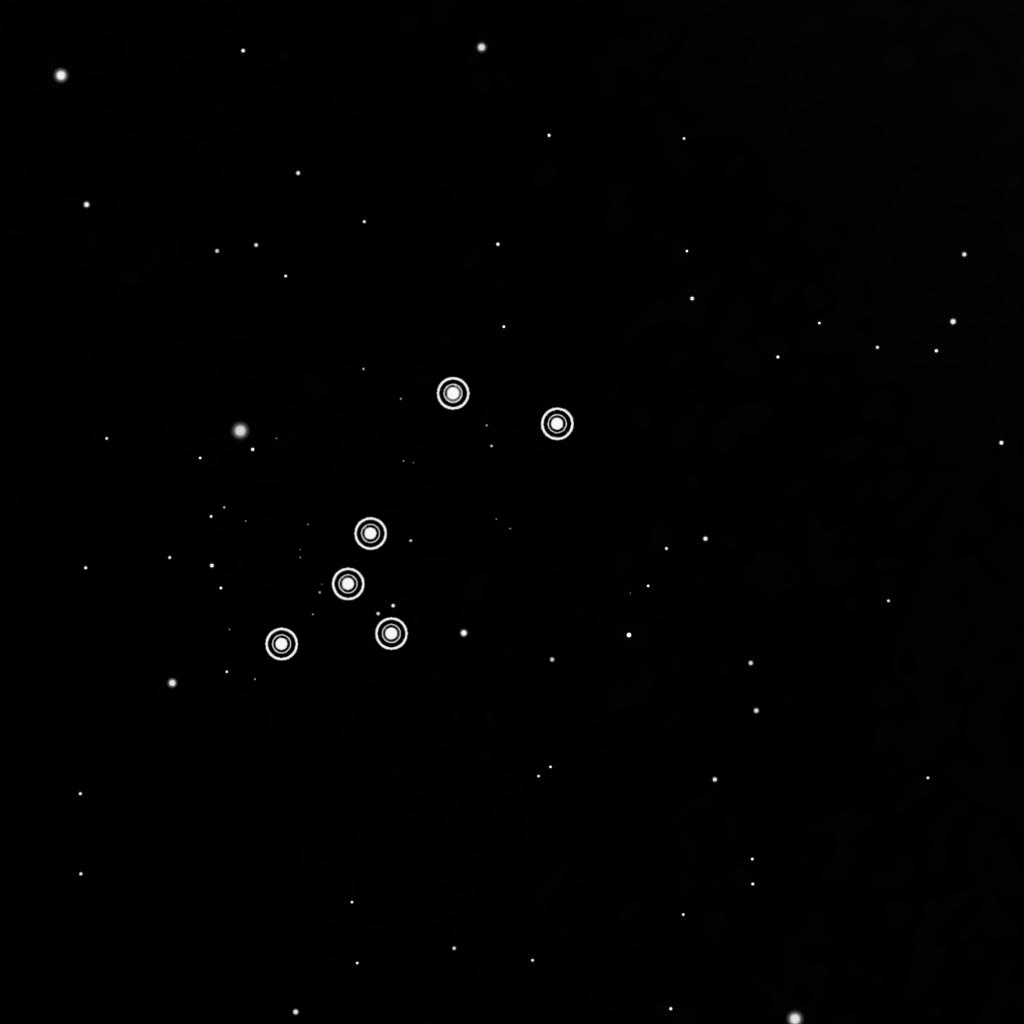canis_major: (252, 365, 582, 675)
